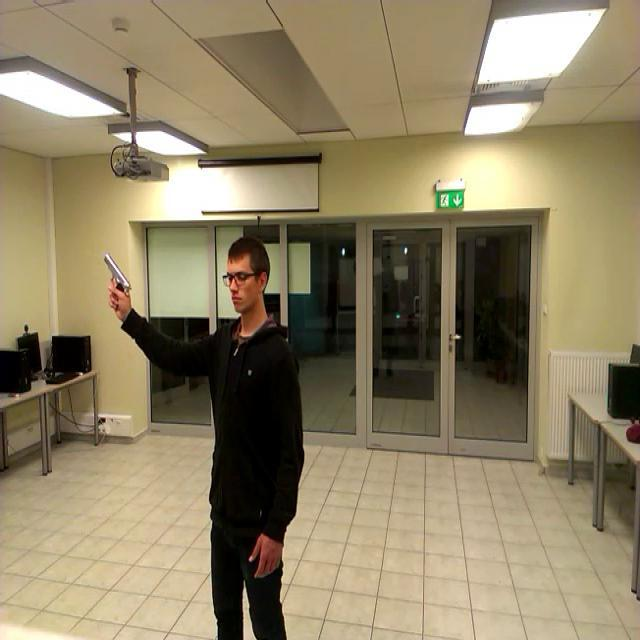Gun: (103, 252, 130, 310)
